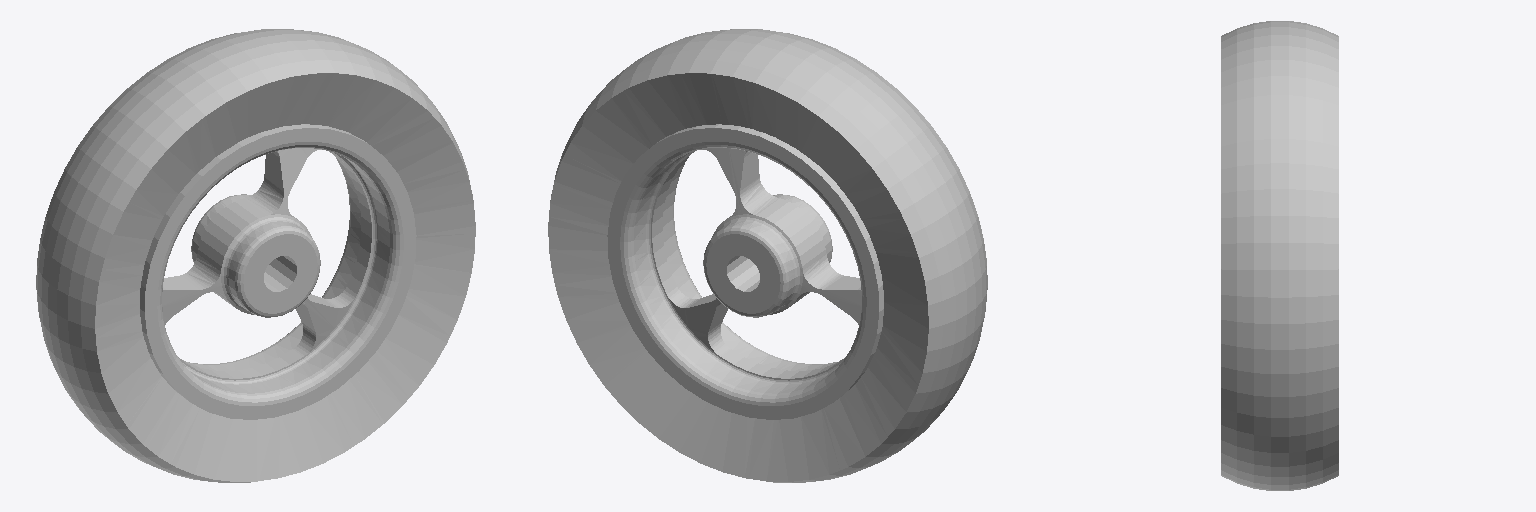
The model's file is processed_frogleg_caster_wheel.obj.
The picture shows the model from 3 angles: view 1: azimuth 30°, elevation 25°; view 2: azimuth 150°, elevation 25°; view 3: azimuth 270°, elevation 25°; orthographic projection.
Visible parts, largest first — view 1: frogleg_caster_wheel; view 2: frogleg_caster_wheel; view 3: frogleg_caster_wheel.
Part boxes in pixels (left/top/right/bottom): frogleg_caster_wheel: left=36, top=29, right=475, bottom=482; frogleg_caster_wheel: left=548, top=29, right=987, bottom=482; frogleg_caster_wheel: left=1221, top=21, right=1338, bottom=490.
Bounding box in the file's own units: 0.1521 × 0.1521 × 0.0381.